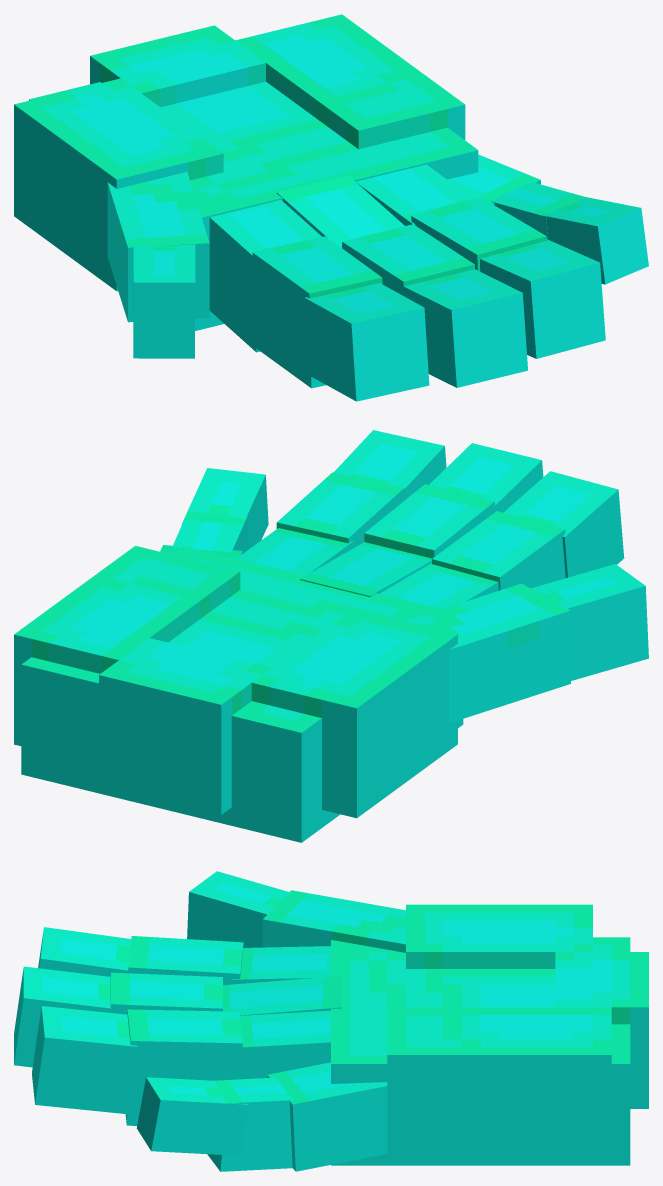
File: Hand.fbx
3 renders of one model, top to bottom at view 1: azimuth 30°, elevation 25°; view 2: azimuth 150°, elevation 25°; view 3: azimuth 270°, elevation 25°, orthographic. The views are drawn at different scales.
Parts seen in each view (by area): view 1: Thumb, Index, Middle, Palm, Ring, Thumb_1_1, Pink, Thumb_1_2; view 2: Thumb, Palm, Thumb_1_2, Index, Thumb_1_1, Middle, Ring, Pink; view 3: Thumb_1_1, Thumb, Ring, Pink, Palm, Middle, Index, Thumb_1_2.
Boxes of the visible parts, x1,y1,x2,y2 form: Thumb: (14,78,223,358); Index: (209,200,429,401); Middle: (276,175,527,387); Palm: (29,81,478,330); Ring: (356,164,605,358); Thumb_1_1: (235,14,465,149); Pink: (447,154,648,284); Thumb_1_2: (90,25,265,107); Thumb: (251,564,648,818); Palm: (21,546,463,842); Thumb_1_2: (99,638,271,814); Index: (379,471,624,608); Thumb_1_1: (14,546,240,745); Middle: (300,443,543,597); Ring: (236,430,446,575); Pink: (160,468,268,558); Thumb_1_1: (387,1007,611,1156); Thumb: (187,871,592,968); Ring: (32,1006,330,1125); Pink: (136,1062,387,1171); Palm: (331,937,630,1165); Middle: (14,966,341,1067); Index: (38,927,330,985); Thumb_1_2: (555,952,648,1108).
Size of the model in its own units: 169 by 43.75 by 212.
1 material, 1 textured.
